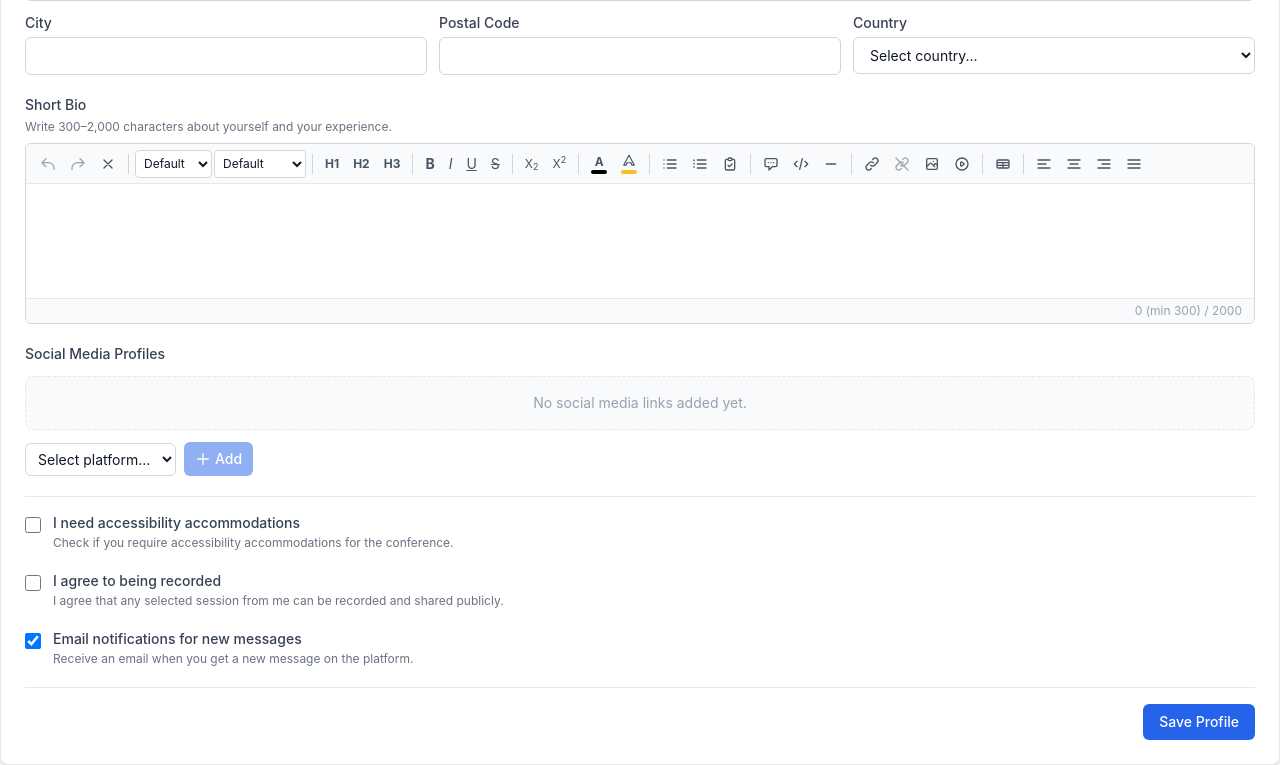
Test: ProfilePage › form submission › shows Saved feedback after a successful save
The width and height of the screenshot is (1280, 765).
(page scrolled)
Click the button "Save Profile" at (1199, 722), box [1143,704,1255,740]
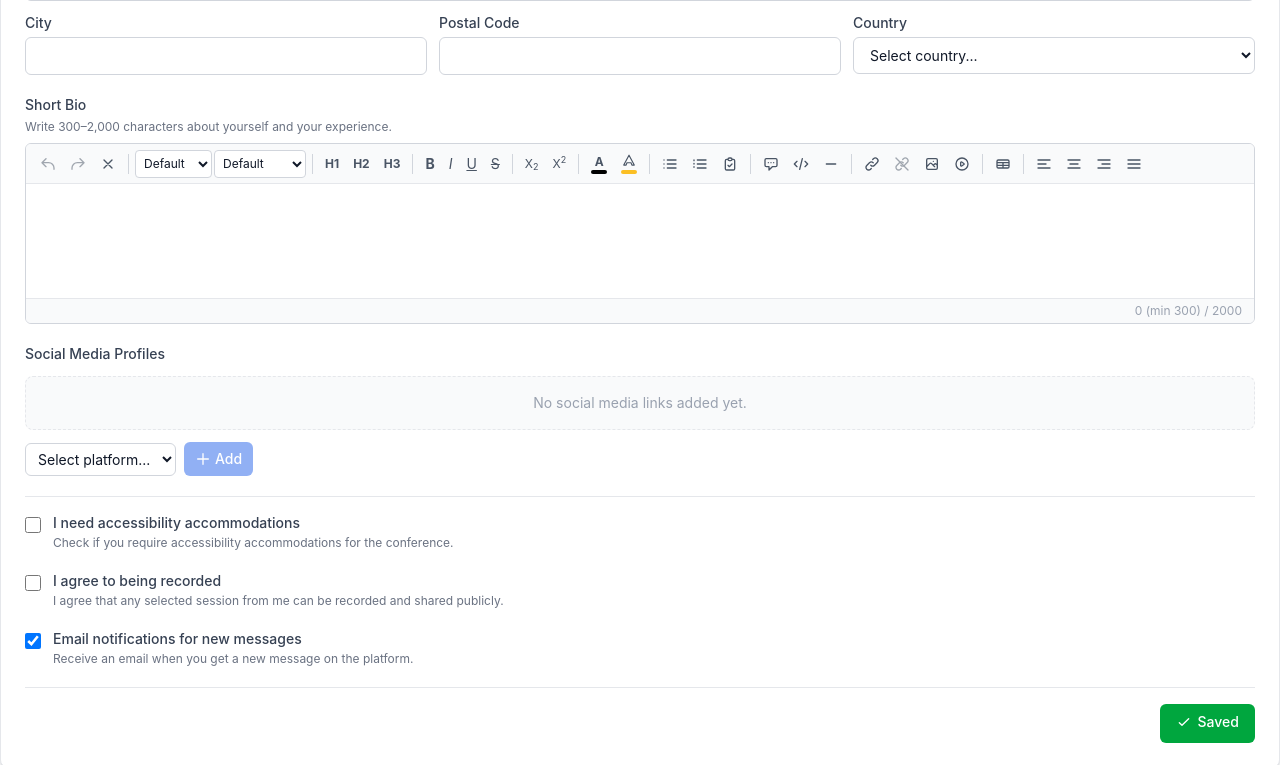
Check: the button "Saved" is shown, box [1160,704,1255,743]
